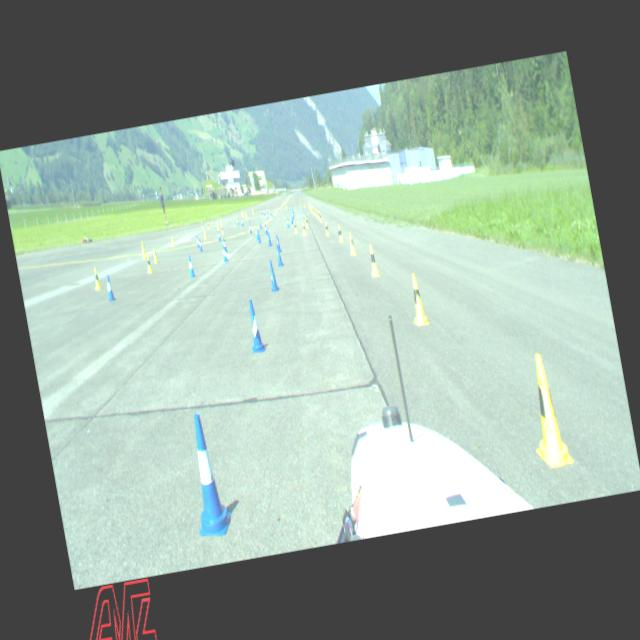blue_cone: (178, 411, 235, 540), (242, 297, 266, 354), (266, 259, 279, 292), (104, 274, 115, 302), (274, 242, 284, 268), (186, 254, 196, 278), (220, 242, 228, 262), (274, 234, 282, 252), (265, 229, 272, 247), (222, 235, 228, 254), (197, 236, 203, 252), (256, 228, 262, 244), (194, 234, 200, 248), (284, 216, 290, 228), (216, 230, 222, 241), (247, 222, 252, 235), (263, 223, 268, 235), (254, 226, 258, 240), (289, 213, 293, 224), (258, 218, 262, 229), (290, 208, 294, 217), (290, 204, 294, 213), (260, 208, 264, 215), (290, 212, 294, 219), (236, 217, 239, 226), (240, 218, 243, 226), (265, 206, 268, 214), (269, 208, 272, 216), (271, 210, 274, 218), (262, 208, 265, 215), (265, 212, 268, 219), (276, 205, 279, 212), (286, 204, 289, 211), (248, 215, 250, 222)
yellow_cone: (520, 350, 574, 470), (405, 270, 430, 328), (366, 242, 380, 278), (91, 265, 102, 290), (346, 230, 356, 256), (144, 252, 154, 274), (336, 222, 344, 242), (322, 219, 330, 237), (300, 220, 308, 236), (150, 247, 158, 263), (140, 244, 146, 260), (292, 219, 298, 234), (170, 234, 176, 247), (304, 216, 310, 228), (202, 228, 207, 240), (316, 209, 321, 220), (318, 212, 322, 222), (220, 224, 224, 234), (216, 221, 220, 231), (315, 209, 319, 218), (200, 220, 204, 228), (207, 220, 210, 230), (284, 202, 287, 210), (310, 205, 313, 213), (251, 207, 254, 214), (240, 210, 243, 217), (242, 210, 245, 217), (244, 211, 247, 218), (309, 203, 312, 210), (308, 203, 311, 210), (314, 207, 316, 216), (312, 205, 314, 214), (220, 217, 222, 225), (302, 200, 304, 208), (246, 212, 248, 219), (268, 206, 270, 212), (308, 202, 310, 208)
